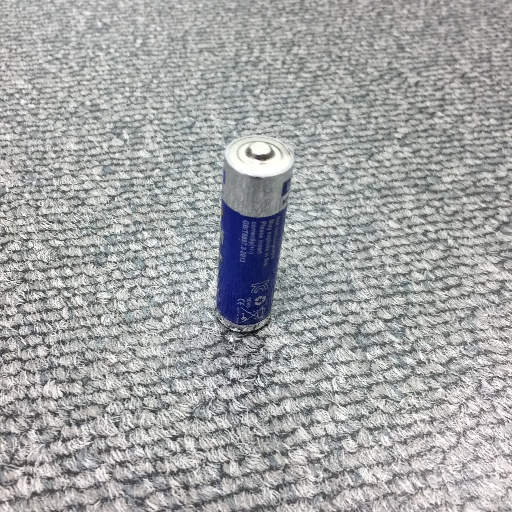Battery_0: (202, 113, 301, 349)
